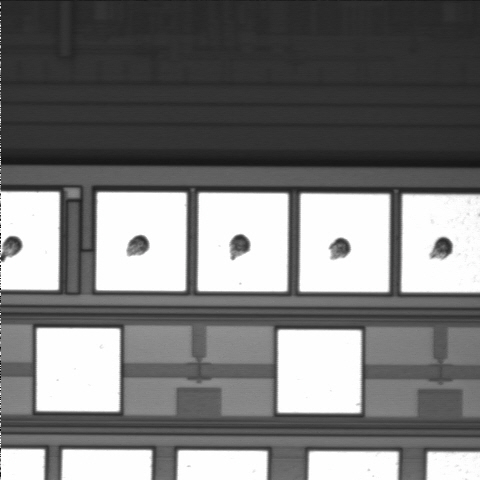pad: (96, 192, 186, 291), (198, 193, 288, 291), (300, 194, 390, 292), (37, 328, 120, 412), (278, 330, 361, 413)
